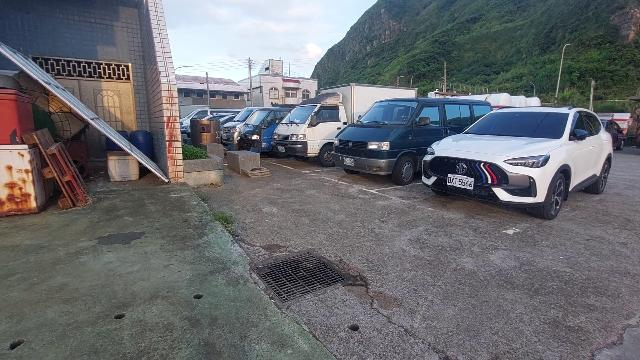pollute: (1, 70, 94, 218), (117, 129, 156, 163), (104, 149, 142, 182)
